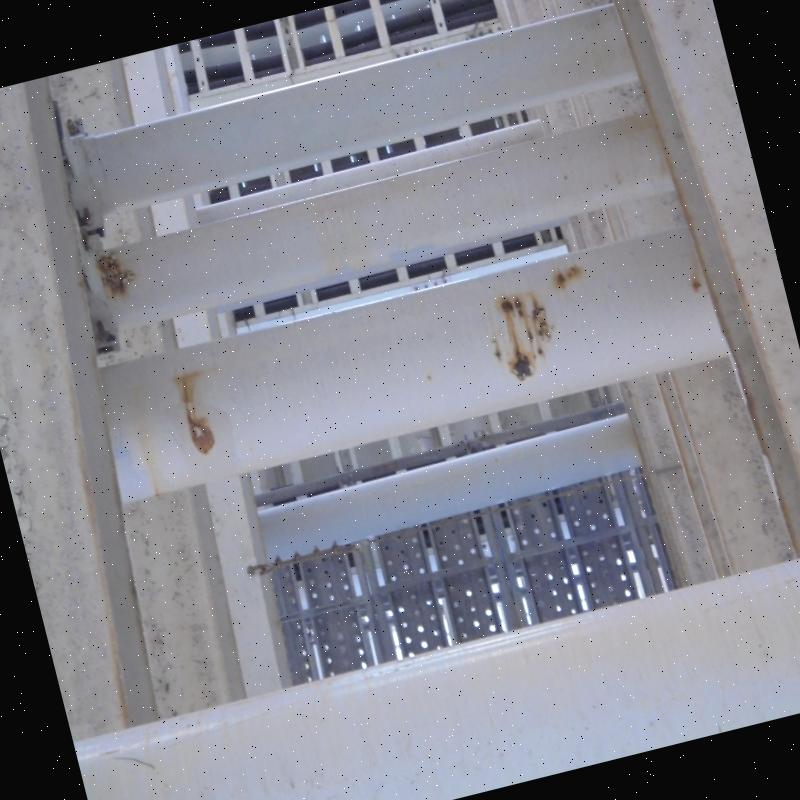corrosion: (496, 306, 552, 384), (95, 256, 130, 302), (186, 418, 218, 450)
